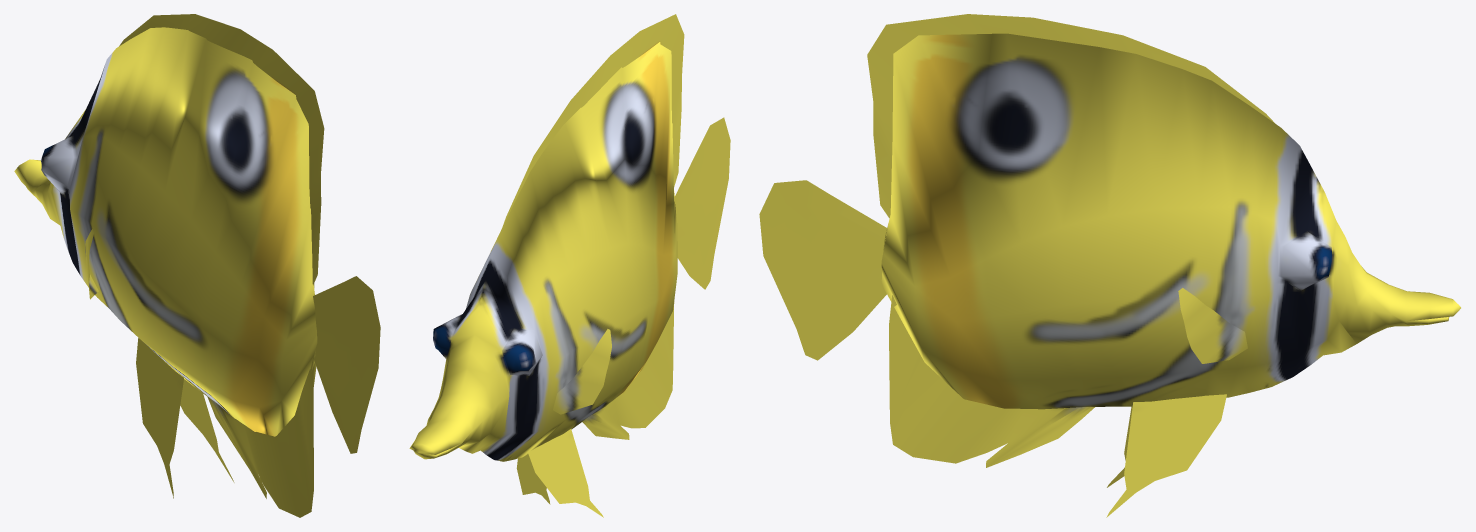
The model's file is ButterFlyYellow.fbx.
The picture shows the model from 3 angles, left to right: view 1: azimuth 30°, elevation 25°; view 2: azimuth 150°, elevation 25°; view 3: azimuth 270°, elevation 25°; orthographic projection. The views are drawn at different scales.
Parts seen in each view (by area): view 1: ButterFlyYellow_LOD00; view 2: ButterFlyYellow_LOD00; view 3: ButterFlyYellow_LOD00.
Boxes of the visible parts, x1=… form: ButterFlyYellow_LOD00: x1=14, y1=14, x2=380, y2=517; ButterFlyYellow_LOD00: x1=409, y1=14, x2=730, y2=517; ButterFlyYellow_LOD00: x1=759, y1=14, x2=1460, y2=517.
Size of what is drawn, in the model's own units: 15.17 by 46.33 by 60.33.
